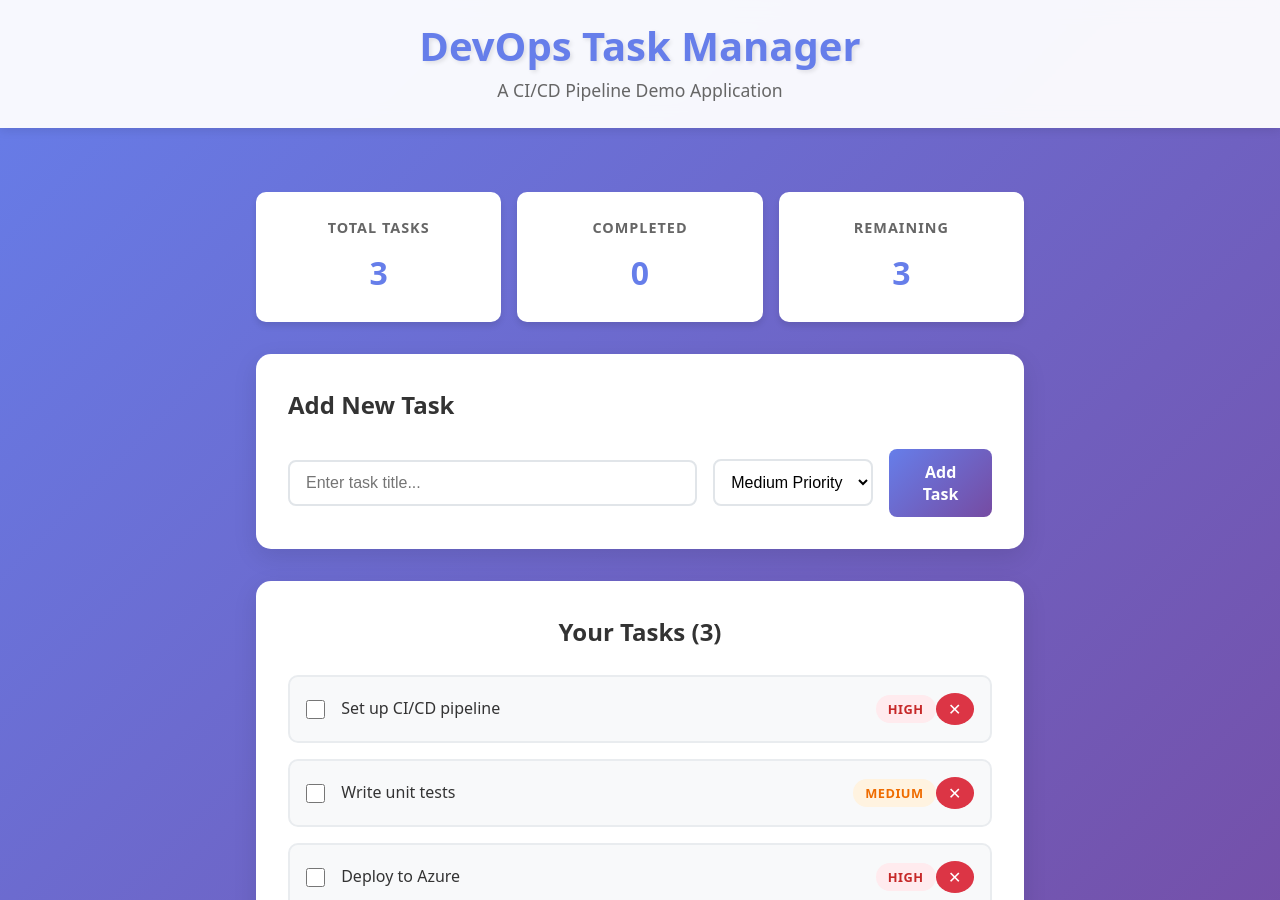
Test: App Component › adds a new task when form is submitted
Type "New test task" into the field with placeholder "Enter task title..." at coordinates (493, 483), box [288, 460, 697, 506]
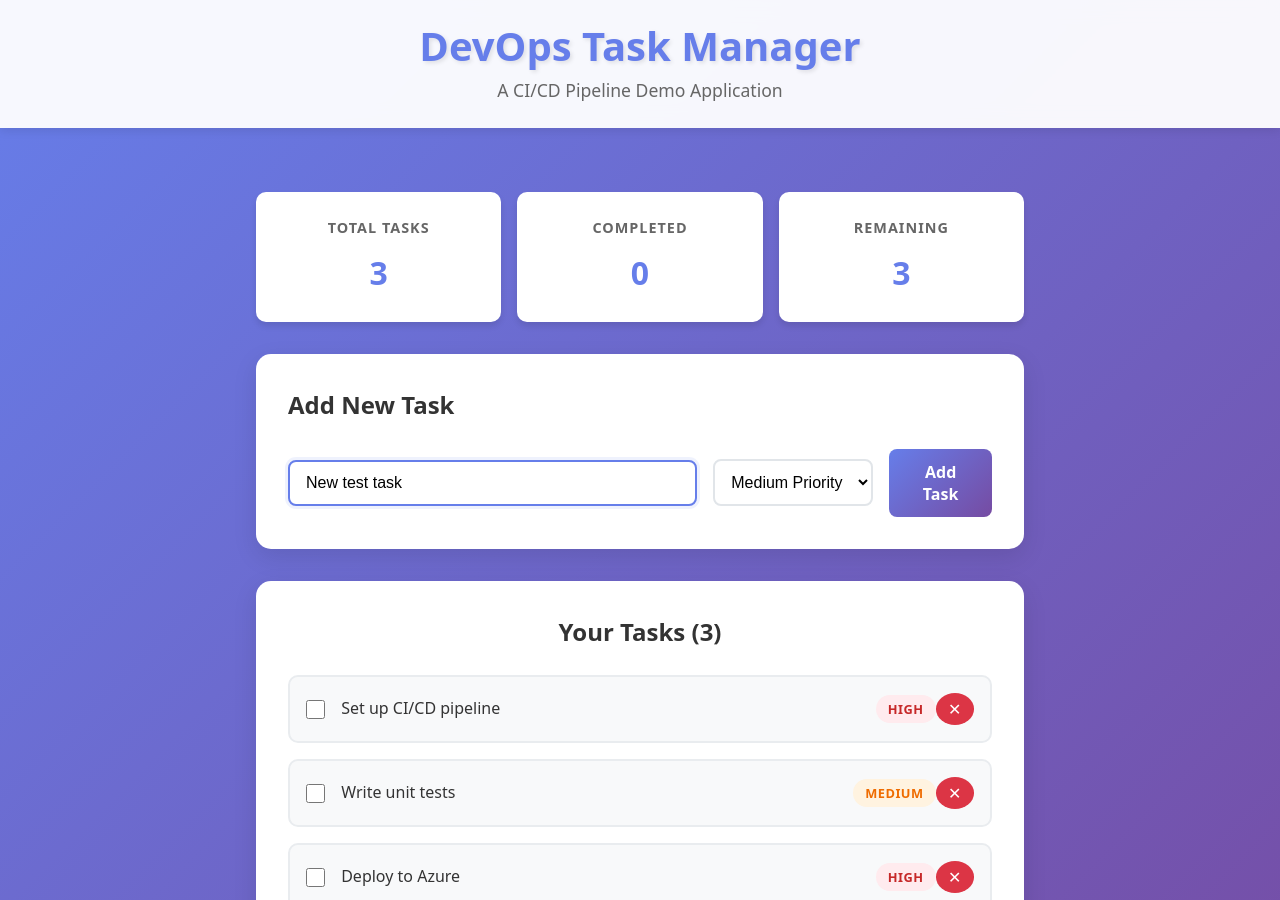
Click the button "Add Task" at coordinates (941, 483), box [889, 449, 992, 517]
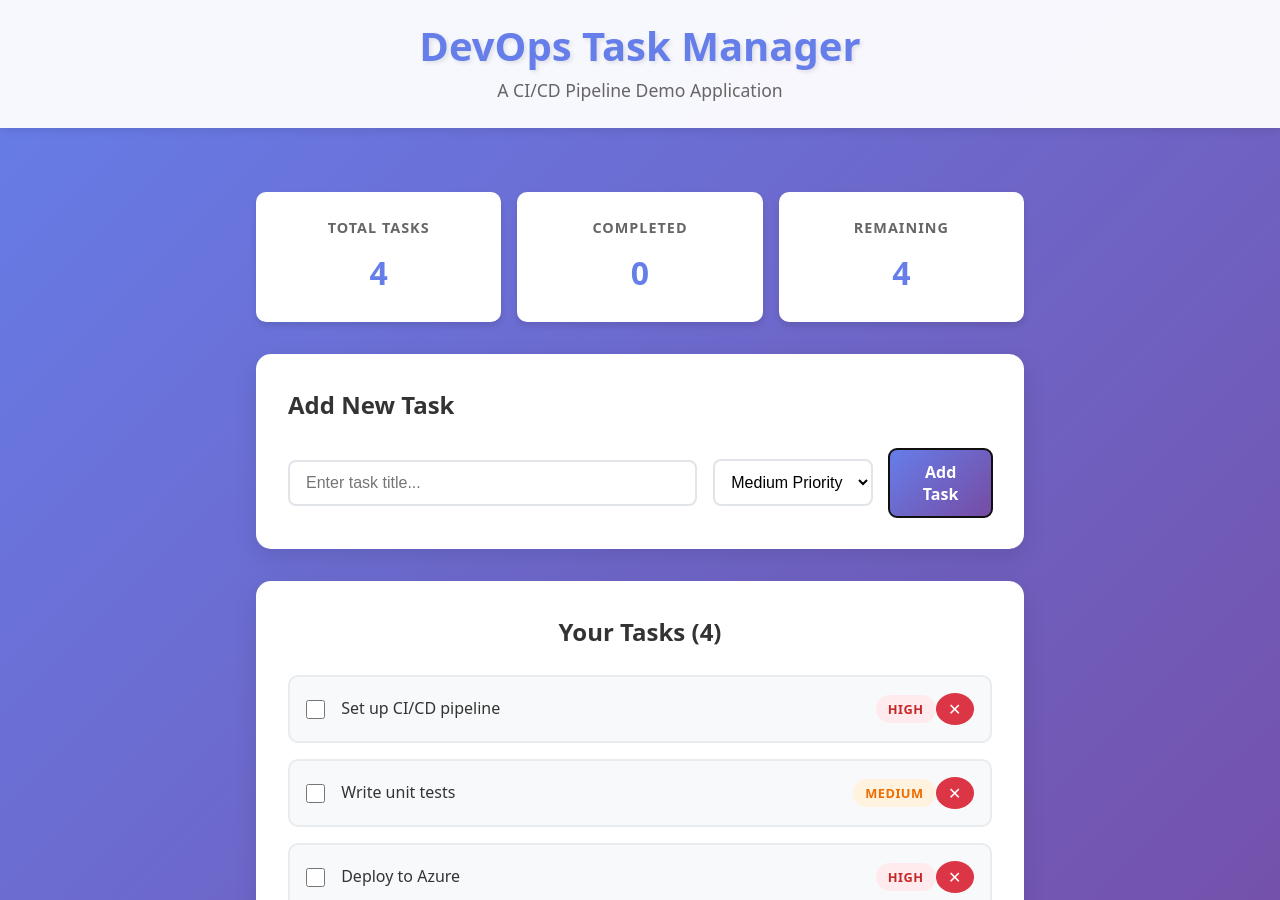
Result: the heading "Your Tasks (4)" is shown at [558, 615, 722, 648]
